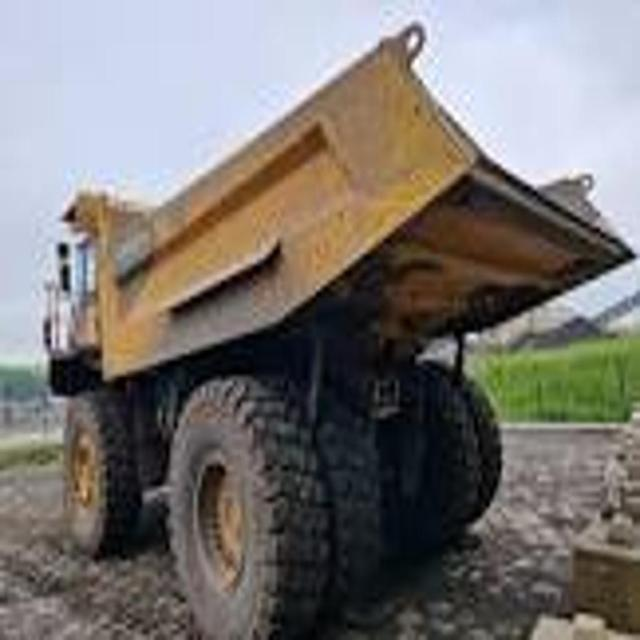dump_truck: (42, 20, 626, 640)
